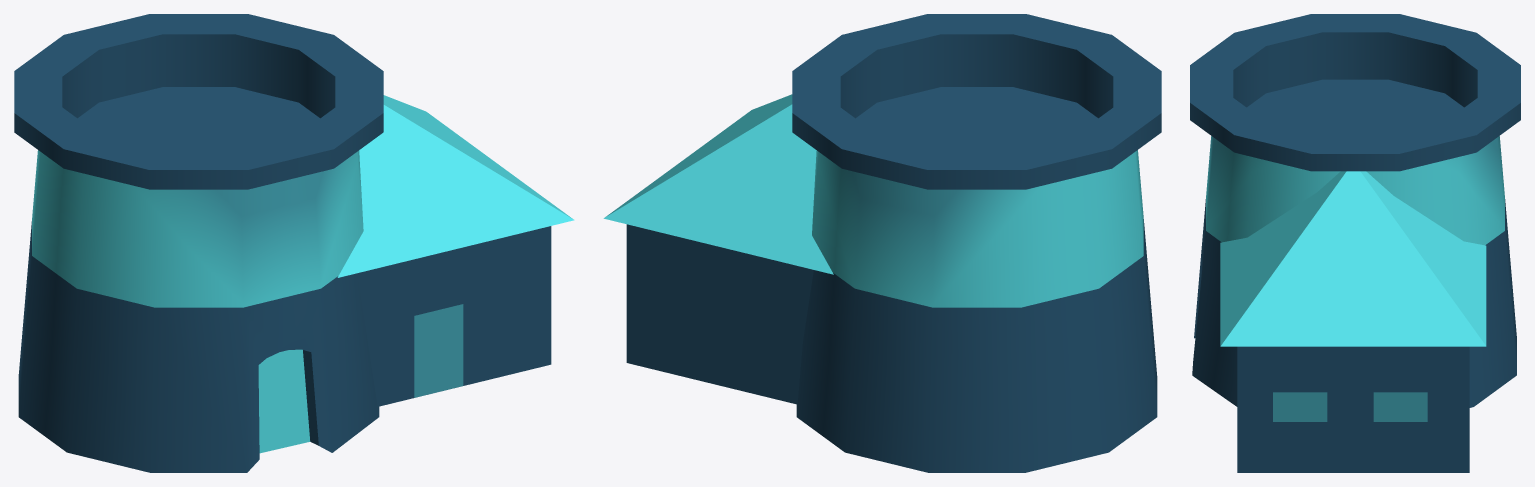
The model's file is Lighthouse_LV2.FBX.
3 renders of one model, left to right at view 1: azimuth 30°, elevation 25°; view 2: azimuth 150°, elevation 25°; view 3: azimuth 270°, elevation 25°, orthographic. The views are drawn at different scales.
Parts seen in each view (by area): view 1: Lighthouse_LV2; view 2: Lighthouse_LV2; view 3: Lighthouse_LV2.
Boxes of the visible parts, x1=… form: Lighthouse_LV2: x1=14, y1=14, x2=574, y2=472; Lighthouse_LV2: x1=603, y1=14, x2=1161, y2=472; Lighthouse_LV2: x1=1190, y1=14, x2=1520, y2=472.
Bounding box in the file's own units: 19.64 × 12.42 × 13.64.
